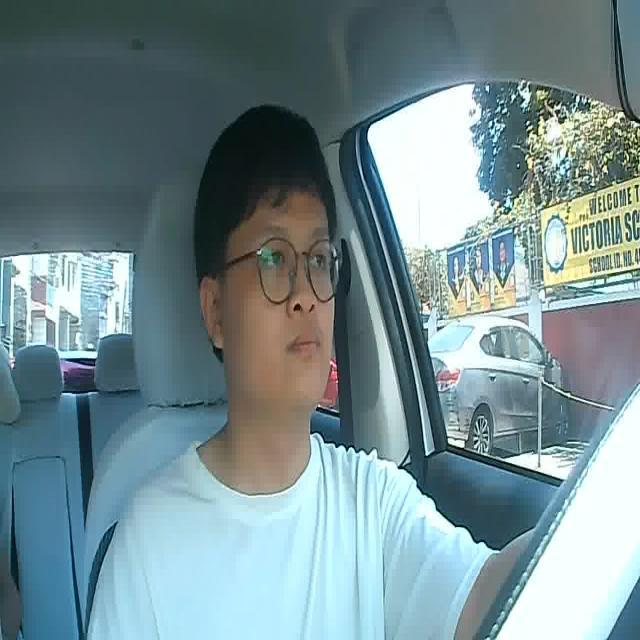Attentive: (194, 106, 340, 424)
Eye-Open: (260, 245, 292, 271), (306, 247, 329, 270)
Normal: (284, 327, 322, 362)
